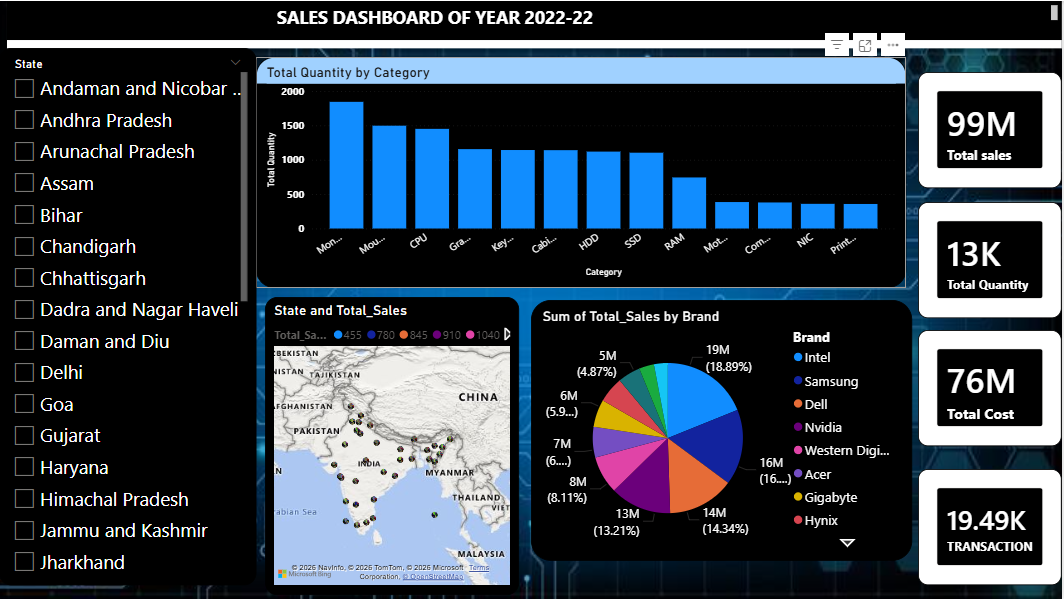

What the dashboard file says about the page in this screenshot:
{"tool":"powerbi","page":{"name":"Page 1","canvas":[1280,720],"ordinal":0},"visuals":[{"type":"textbox","box":[9.8,0,1270.2,56.8],"z":0},{"type":"textbox","box":[9.6,0,1270.2,47],"z":1},{"type":"cardVisual","fields":{"Data":["Sum(Sales_Data.Total_Sales)"]},"box":[1106.5,85.5,173.4,139.7],"z":2},{"type":"cardVisual","fields":{"Data":["Sum(Sales_Data.Quantity)"]},"box":[1106.5,242,173.4,139.7],"z":3},{"type":"cardVisual","fields":{"Data":["Sum(Sales_Data.Total_Cost)"]},"box":[1106.5,396.1,173.4,139.7],"z":4},{"type":"cardVisual","fields":{"Data":["Avg(Sales_Data.Total_Sales)"]},"box":[1106.5,563.5,173.4,139.7],"z":5},{"type":"clusteredColumnChart","fields":{"Category":["Sales_Data.Category"],"Y":["Sum(Sales_Data.Quantity)"]},"box":[310,67.5,782.5,277.5],"z":6},{"type":"pieChart","fields":{"Category":["Sales_Data.Brand"],"Y":["Sum(Sales_Data.Total_Sales)"]},"box":[640.5,359.5,459.5,313.5],"z":7},{"type":"slicer","fields":{"Values":["State_list.State"]},"box":[0,56.7,309.7,646.9],"z":8},{"type":"map","fields":{"Category":["State_list.State"],"Series":["Sales_Data.Total_Sales"]},"box":[320,356.2,306.2,358.8],"z":9}]}

Visuals, with their boxes in screenshot pixels (x1, y1, x2, y2), scaled from the page's 1280x720 canvas onto the 1064x599 screenshot:
textbox: x1=8, y1=0, x2=1063, y2=47
textbox: x1=8, y1=0, x2=1063, y2=39
cardVisual - Sum(Sales_Data.Total_Sales): x1=920, y1=71, x2=1063, y2=187
cardVisual - Sum(Sales_Data.Quantity): x1=920, y1=201, x2=1063, y2=318
cardVisual - Sum(Sales_Data.Total_Cost): x1=920, y1=330, x2=1063, y2=446
cardVisual - Avg(Sales_Data.Total_Sales): x1=920, y1=469, x2=1063, y2=585
clusteredColumnChart - Sales_Data.Category x Sum(Sales_Data.Quantity): x1=258, y1=56, x2=908, y2=287
pieChart - Sales_Data.Brand x Sum(Sales_Data.Total_Sales): x1=532, y1=299, x2=914, y2=560
slicer - State_list.State: x1=0, y1=47, x2=257, y2=585
map - State_list.State x Sales_Data.Total_Sales: x1=266, y1=296, x2=521, y2=595
